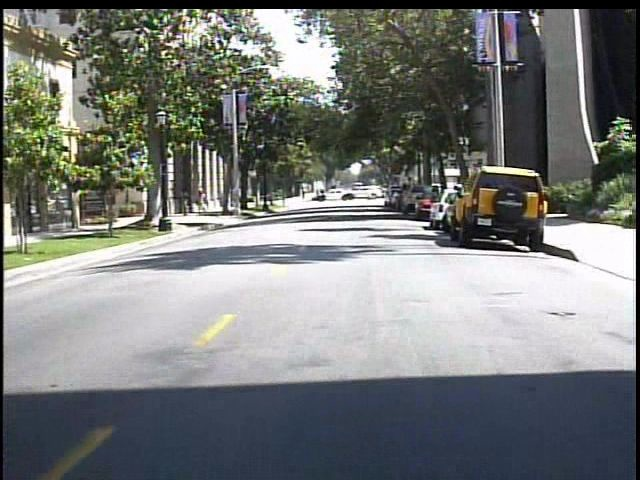person: (196, 187, 216, 220), (175, 186, 193, 219)
